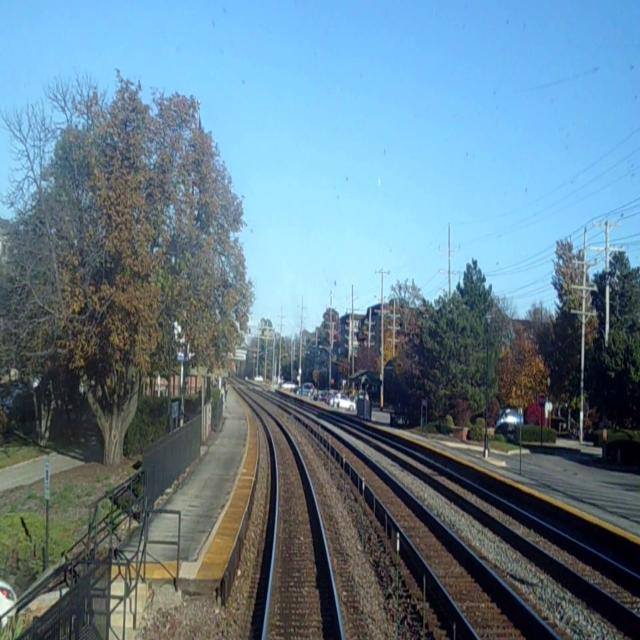rail-track: (316, 424, 552, 639), (393, 447, 640, 610), (252, 402, 340, 639)
